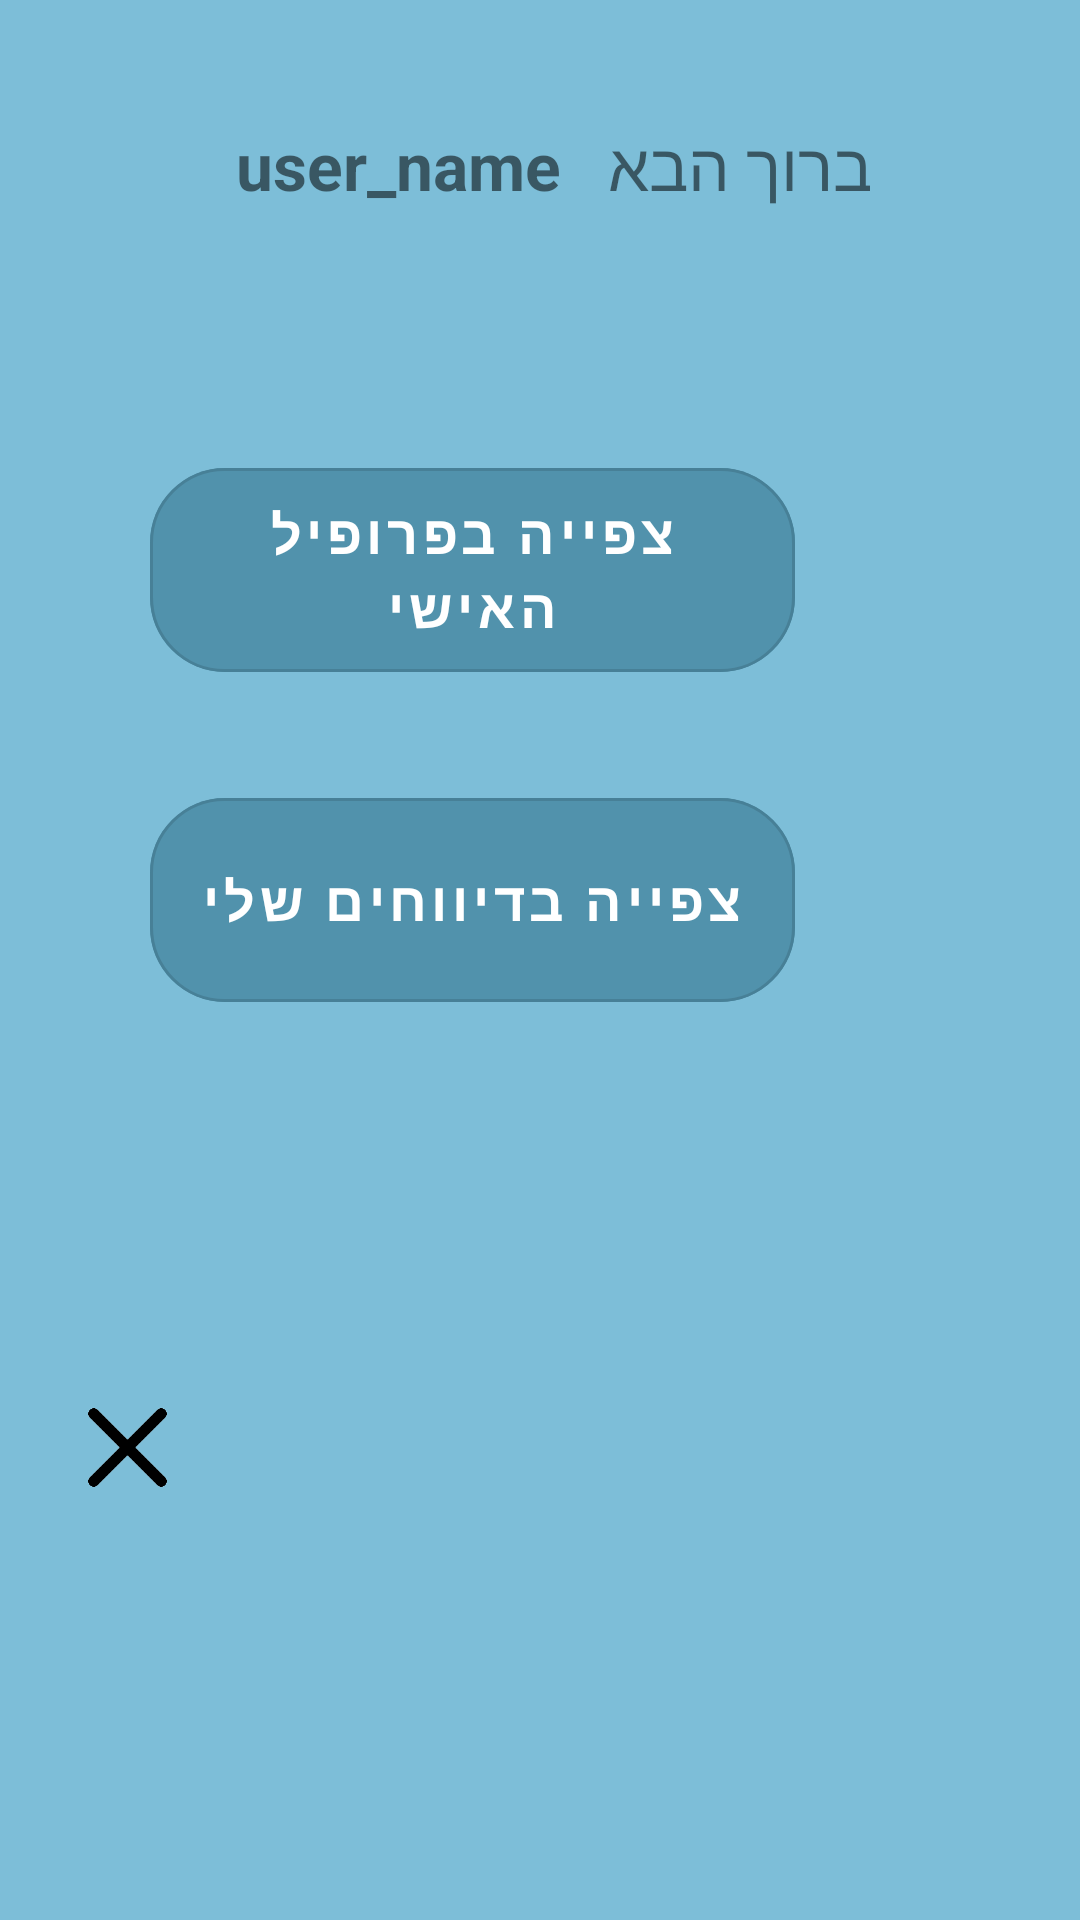

Screen size 1080×1920. Icon name, then its center in pixels as point (x, y):
iconx: point (127, 1447)
